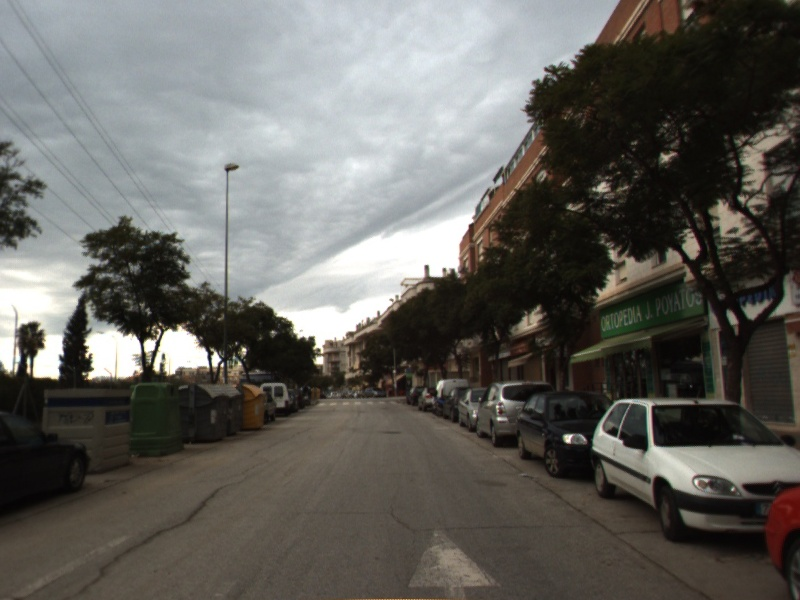STRAIGHT: (406, 523, 509, 600)
